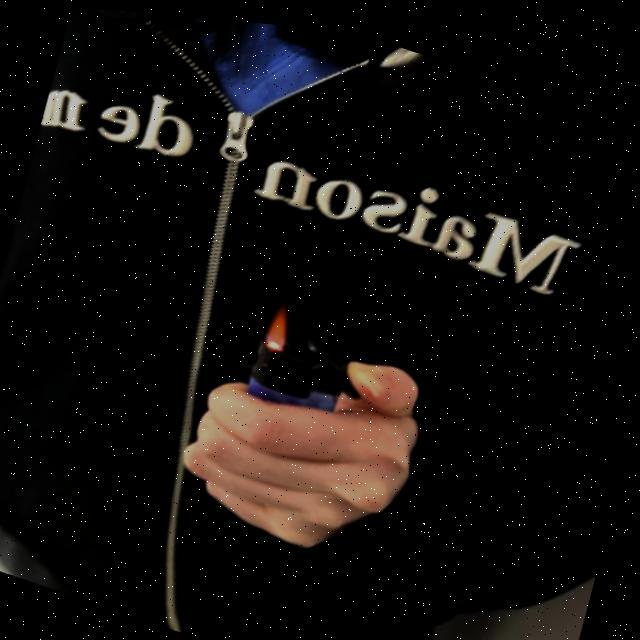Fire: (259, 287, 303, 348)
